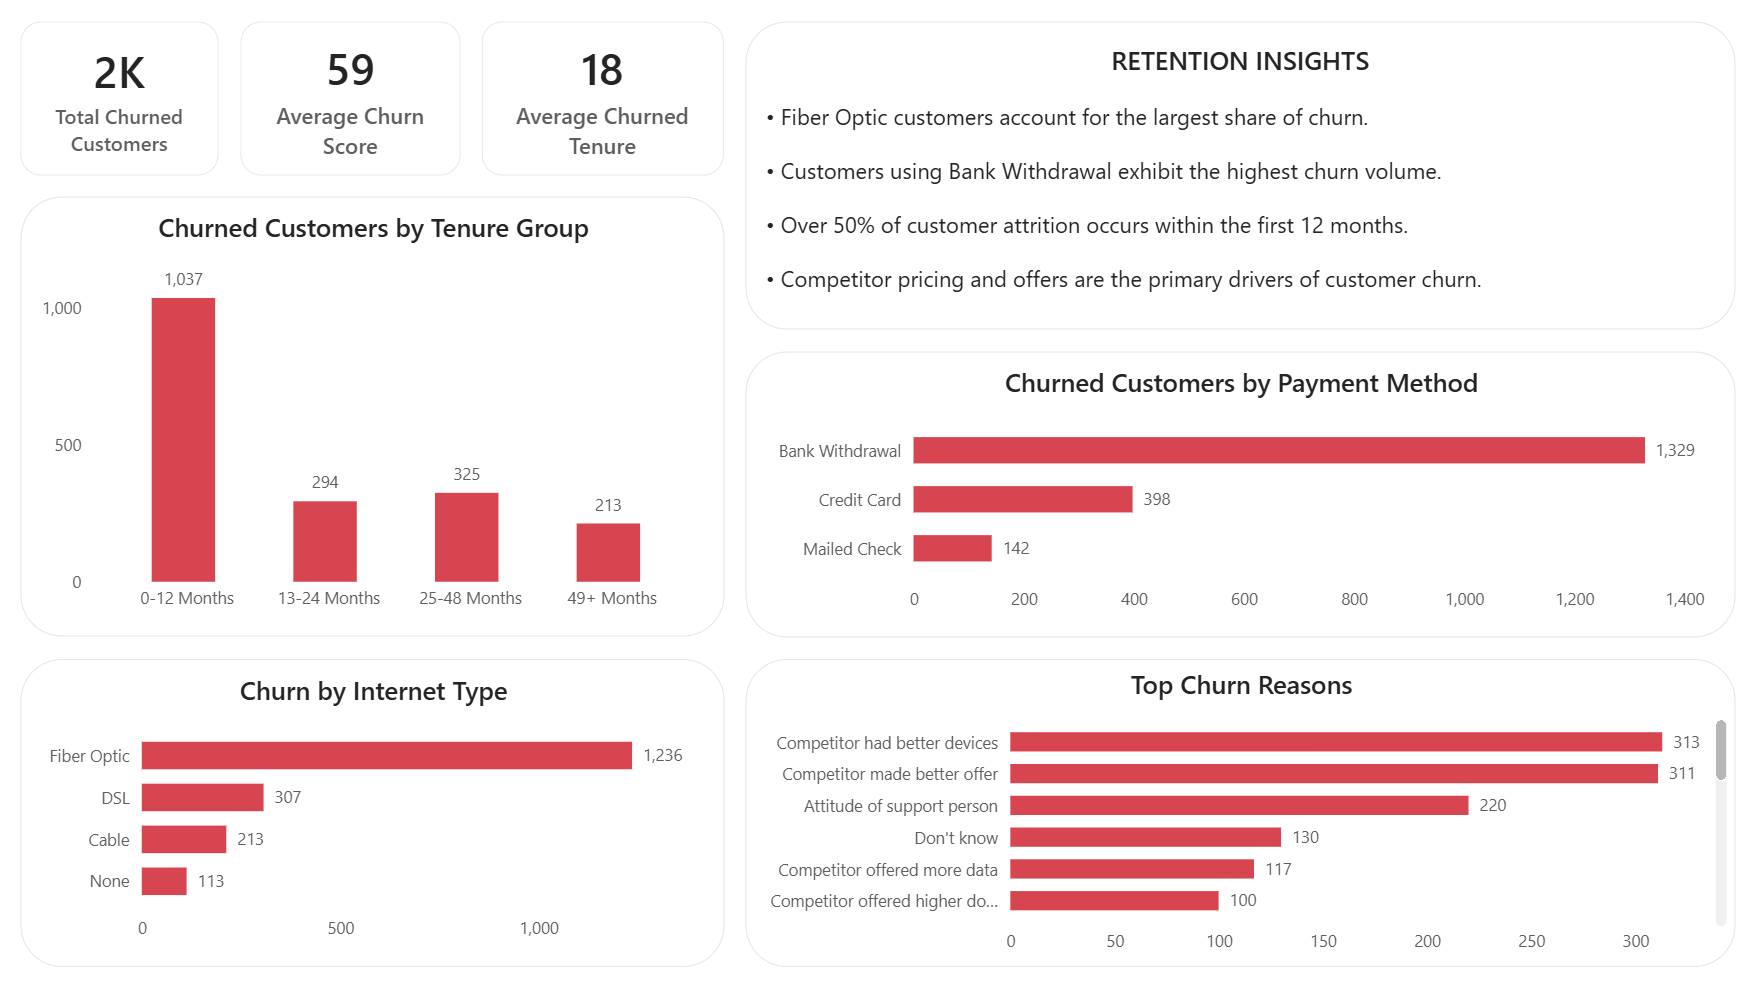

Layout of this report page (visuals, bound fields, positions):
{"tool":"powerbi","page":{"name":"Customer Retention Drivers","canvas":[1280,720],"ordinal":2},"visuals":[{"type":"cardVisual","fields":{"Data":["telco.Churned Customers"]},"box":[16,16,144,112],"z":0},{"type":"cardVisual","fields":{"Data":["telco.Avg Churn Score"]},"box":[176,16,160,112],"z":1},{"type":"cardVisual","fields":{"Data":["telco.Avg Churned Tenure"]},"box":[352,16,176,112],"z":2},{"type":"clusteredBarChart","title":"Churn by Internet Type","fields":{"Y":["CountNonNull(telco.Customer ID)"],"Category":["telco.Internet Type"]},"box":[16,480,512,224],"z":3},{"type":"clusteredBarChart","title":"Churned Customers by Payment Method","fields":{"Category":["telco.Payment Method"],"Y":["CountNonNull(telco.Customer ID)"]},"box":[544,256,720,208],"z":4},{"type":"columnChart","title":"Churned Customers by Tenure Group","fields":{"Category":["telco.Tenure Group"],"Y":["CountNonNull(telco.Customer ID)"]},"box":[16,144,512,320],"z":5},{"type":"barChart","title":"Top Churn Reasons","fields":{"Category":["telco.Churn Reason"],"Y":["CountNonNull(telco.Customer ID)"]},"box":[544,480,720,224],"z":6},{"type":"textbox","box":[544,16,720,224],"z":7}]}

Visuals, with their boxes in screenshot pixels (x1, y1, x2, y2), scaled from the page's 1280x720 canvas onto the 1755x985 screenshot:
cardVisual - telco.Churned Customers: 22:22:219:175
cardVisual - telco.Avg Churn Score: 241:22:461:175
cardVisual - telco.Avg Churned Tenure: 483:22:724:175
"Churn by Internet Type" clusteredBarChart: 22:657:724:963
"Churned Customers by Payment Method" clusteredBarChart: 746:350:1733:635
"Churned Customers by Tenure Group" columnChart: 22:197:724:635
"Top Churn Reasons" barChart: 746:657:1733:963
textbox: 746:22:1733:328
